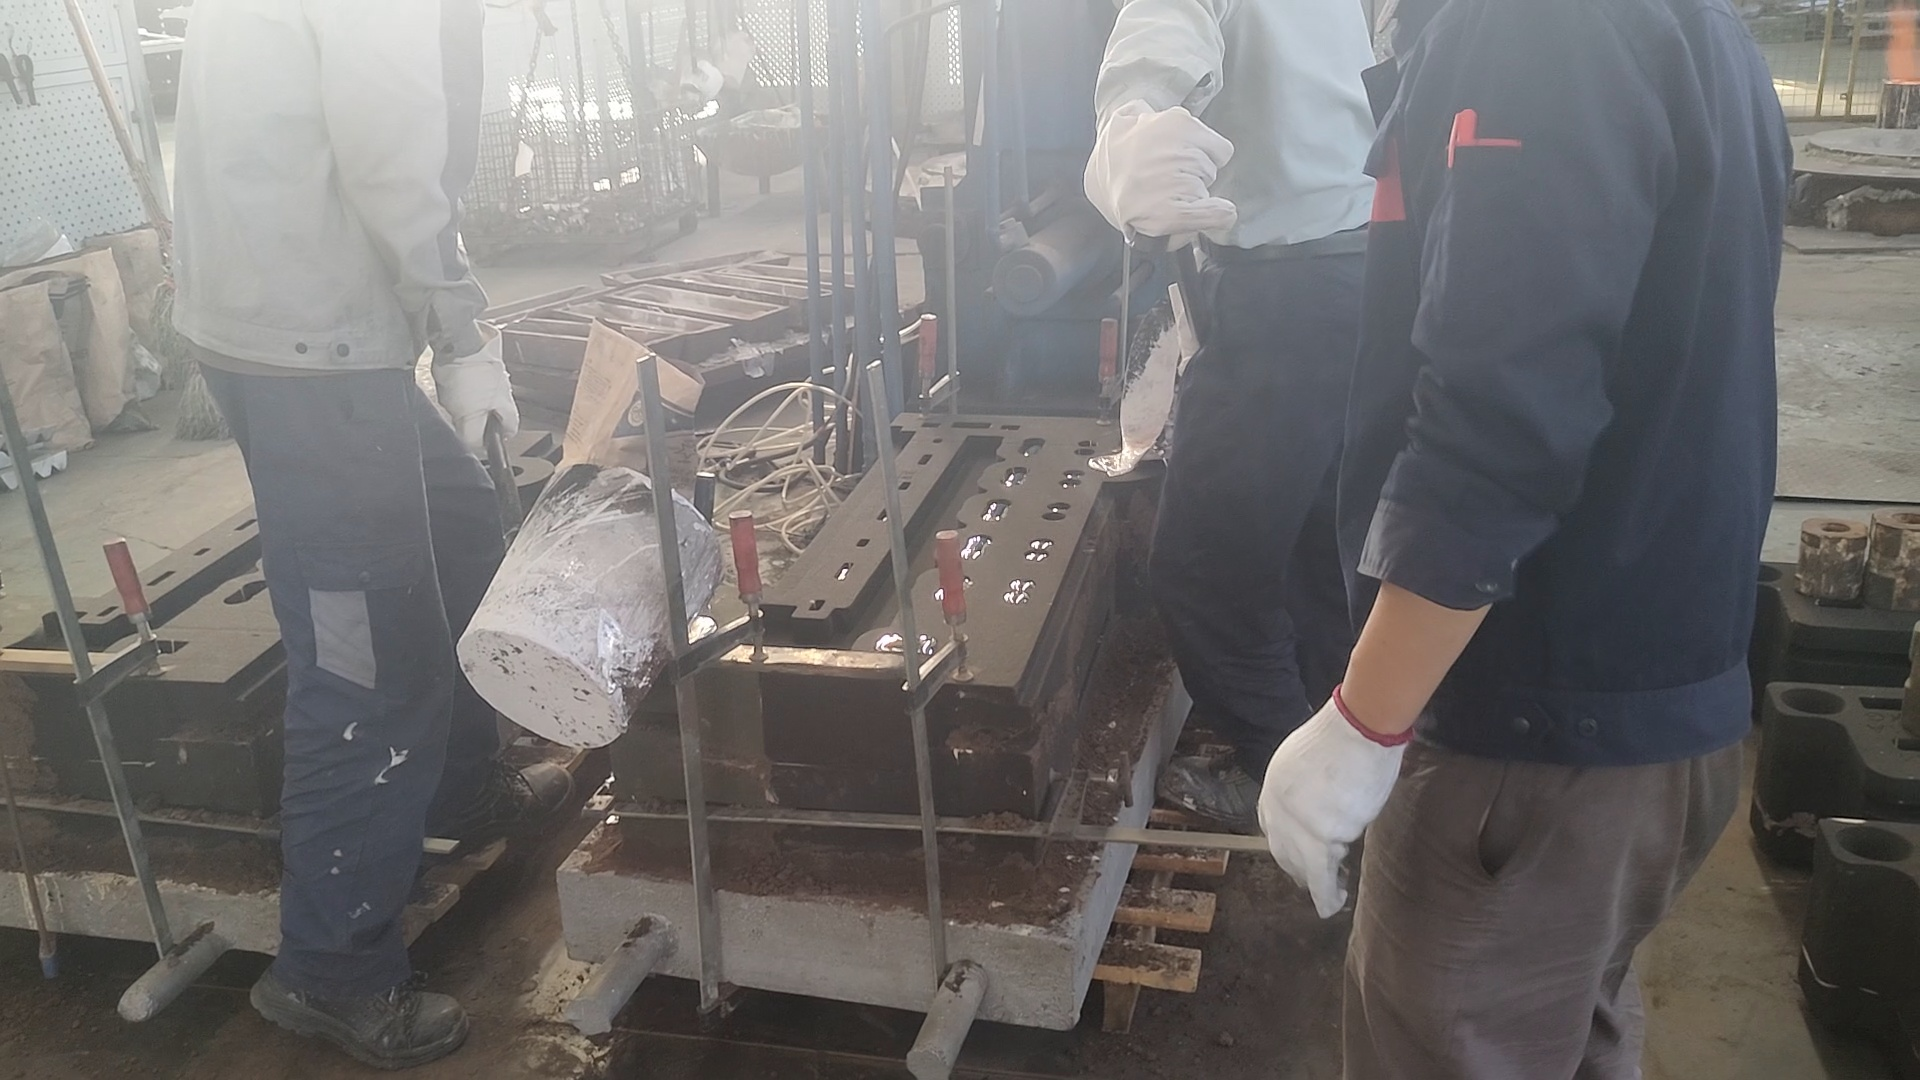pouring hole: (1834, 825, 1913, 861), (655, 611, 716, 645), (1779, 686, 1846, 715), (1091, 450, 1138, 476), (1735, 560, 1782, 583), (487, 459, 524, 485)
